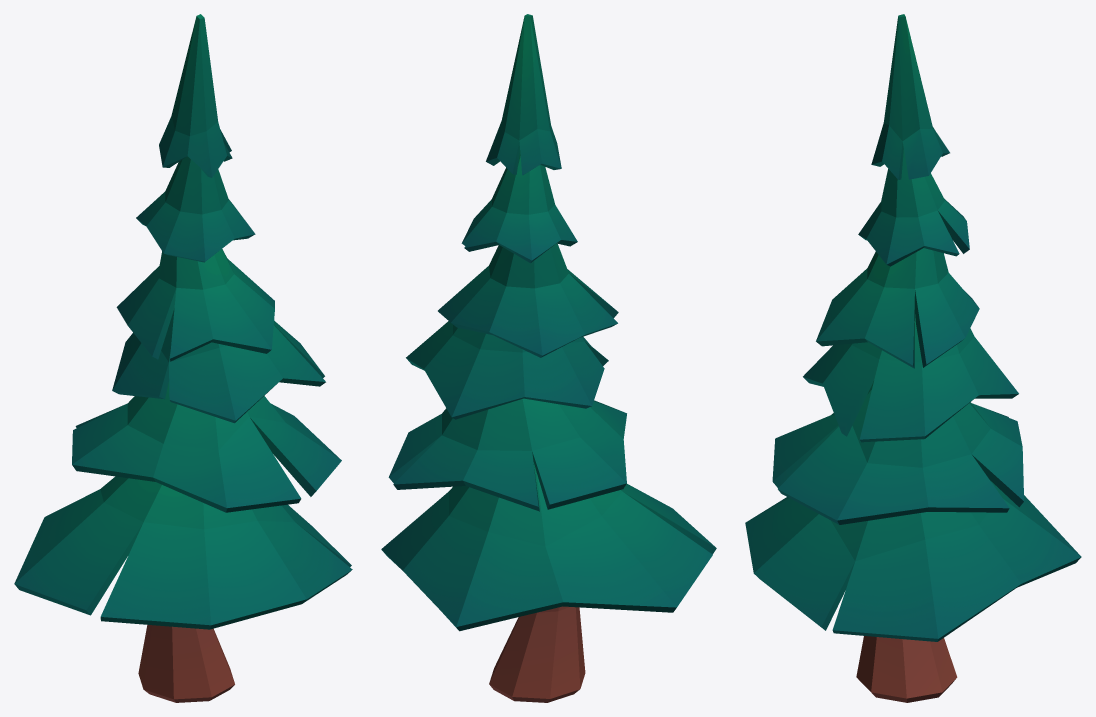
File: tree.glb
3 renders of one model, left to right at view 1: azimuth 30°, elevation 25°; view 2: azimuth 150°, elevation 25°; view 3: azimuth 270°, elevation 25°, orthographic.
Parts seen in each view (by area): view 1: Object_2, Object_3; view 2: Object_2, Object_3; view 3: Object_2, Object_3.
Part boxes in pixels (<box>): Object_2: <box>14,14,352,629</box>; Object_3: <box>138,625,234,702</box>; Object_2: <box>381,14,716,631</box>; Object_3: <box>489,606,585,702</box>; Object_2: <box>745,14,1081,641</box>; Object_3: <box>856,636,957,702</box>.
Bounding box in the file's own units: 7.5 × 16.1 × 7.28.
Materials: 2 (2 with a texture image).
